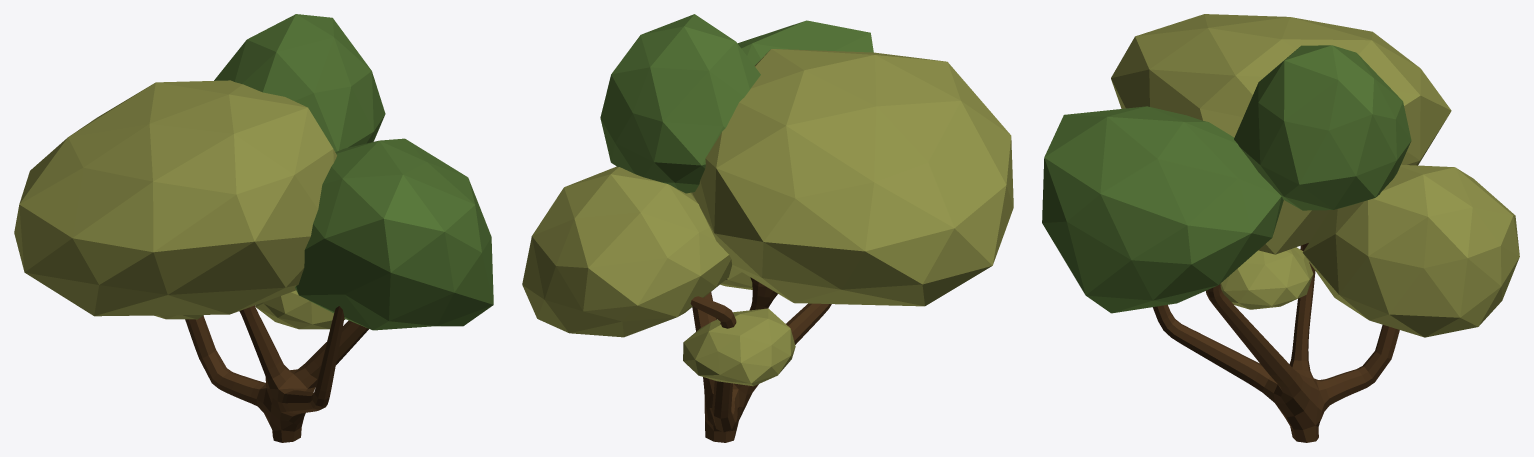
The model's file is kust.fbx.
The picture shows the model from 3 angles, left to right: view 1: azimuth 30°, elevation 25°; view 2: azimuth 150°, elevation 25°; view 3: azimuth 270°, elevation 25°; orthographic projection. The views are drawn at different scales.
Visible parts, largest first — view 1: Icosphere.001; view 2: Icosphere.001; view 3: Icosphere.001.
Boxes of the visible parts, box(x1,y1,x2,y2) form: Icosphere.001: box(14, 14, 493, 442); Icosphere.001: box(522, 14, 1013, 442); Icosphere.001: box(1042, 14, 1519, 442).
Size of the model in its own units: 312 by 308 by 330.
